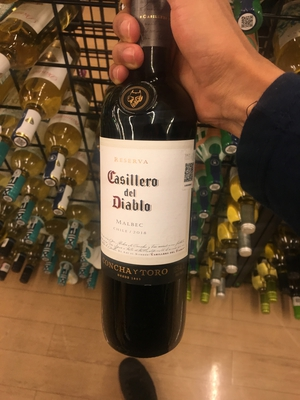casillero del diablo malbec: (82, 16, 209, 355)
